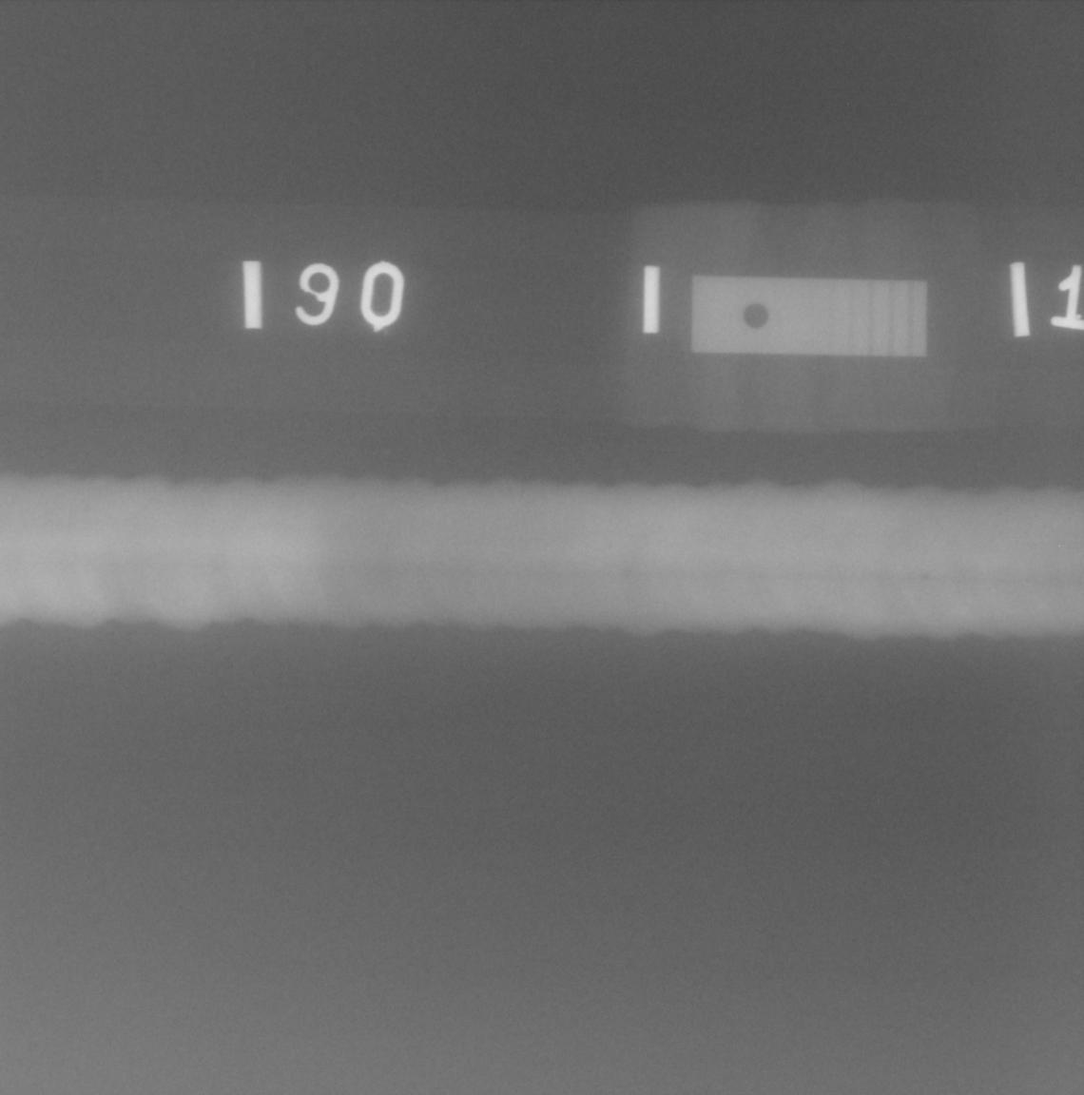Inclusion: (921, 574, 929, 579)
Pore/Porosity: (406, 562, 409, 565)
Reference Standard 1: (691, 276, 928, 357)
